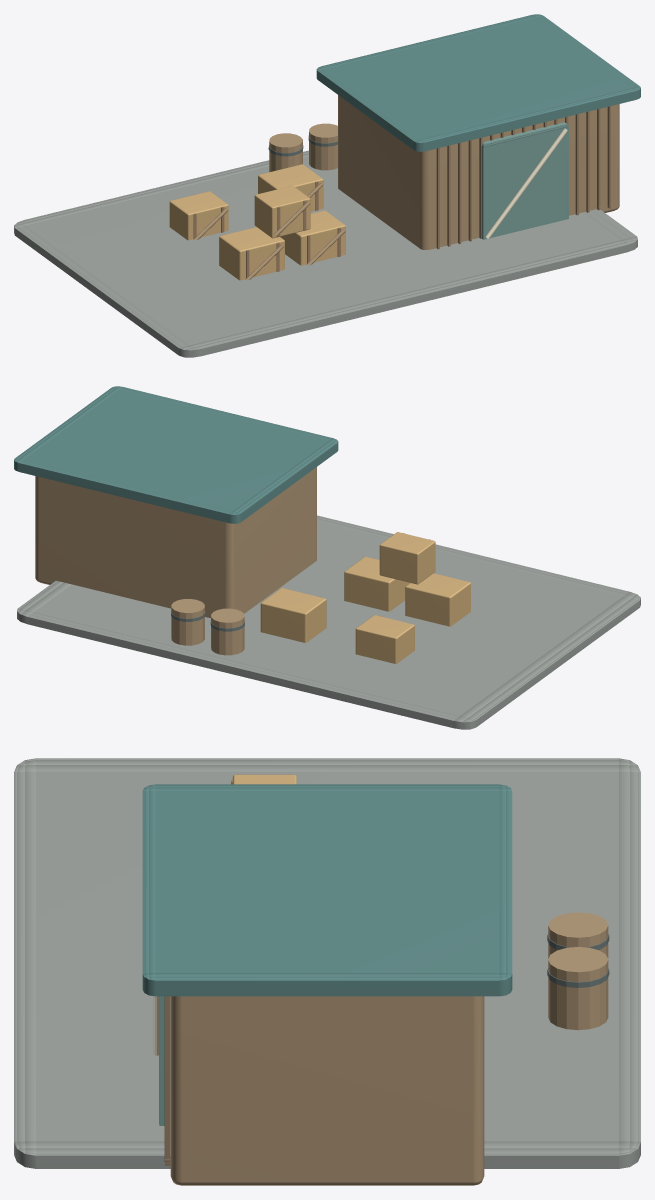
The model's file is SM_Cargo.fbx.
The picture shows the model from 3 angles, top to bottom: view 1: azimuth 30°, elevation 25°; view 2: azimuth 150°, elevation 25°; view 3: azimuth 270°, elevation 25°; orthographic projection. The views are drawn at different scales.
Visible parts, largest first — view 1: SM_Cargo; view 2: SM_Cargo; view 3: SM_Cargo.
Part boxes in pixels (left/top/right/bottom): SM_Cargo: left=14, top=14, right=640, bottom=357; SM_Cargo: left=14, top=386, right=640, bottom=729; SM_Cargo: left=14, top=758, right=640, bottom=1185.
Bounding box in the file's own units: 1620 × 1000 × 390.
